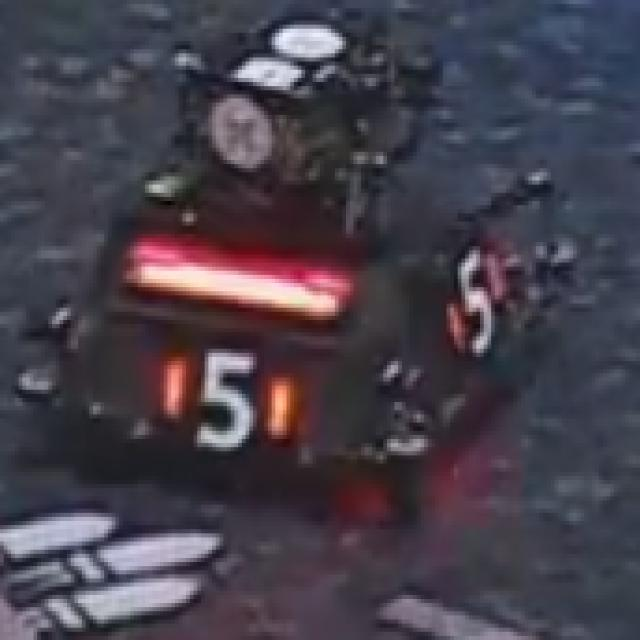R5: (168, 345, 302, 447), (439, 246, 506, 357)
